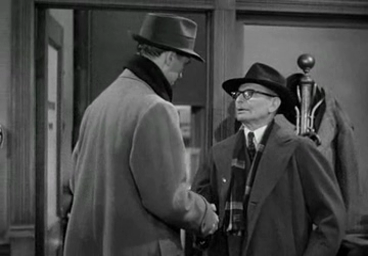face: (229, 86, 265, 122)
ms: (1, 1, 368, 256)
person: (62, 12, 219, 256), (193, 62, 347, 256)
